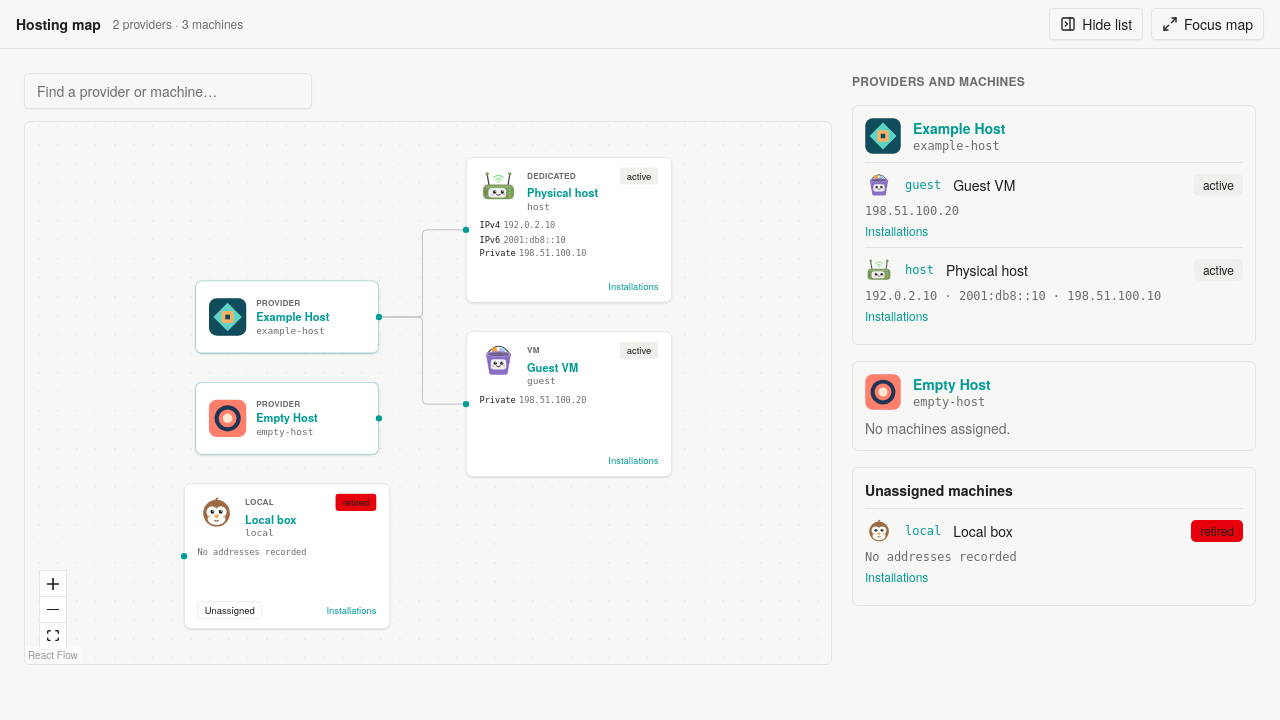
Test: hides the grouped list on request and gives the diagram the whole width
The image size is (1280, 720).
Expected: the element named "Provider to machine diagram" is shown, top-left (24, 121), bottom-right (832, 665)
Click the button "Hide list".
click(1096, 24)  # box top-left (1049, 8), bottom-right (1143, 40)
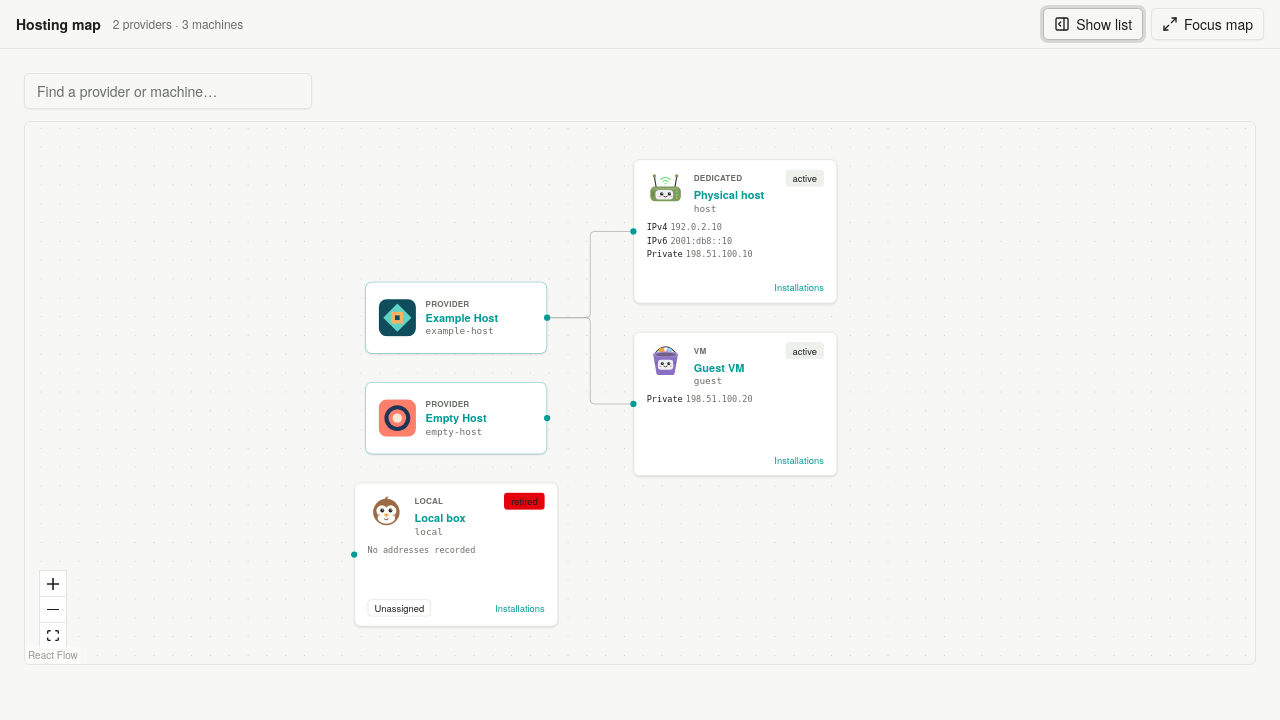
Now the heading "Providers and machines" is gone
Now the button "Show list" is collapsed, box top-left (1043, 8), bottom-right (1143, 40)
Press Enter
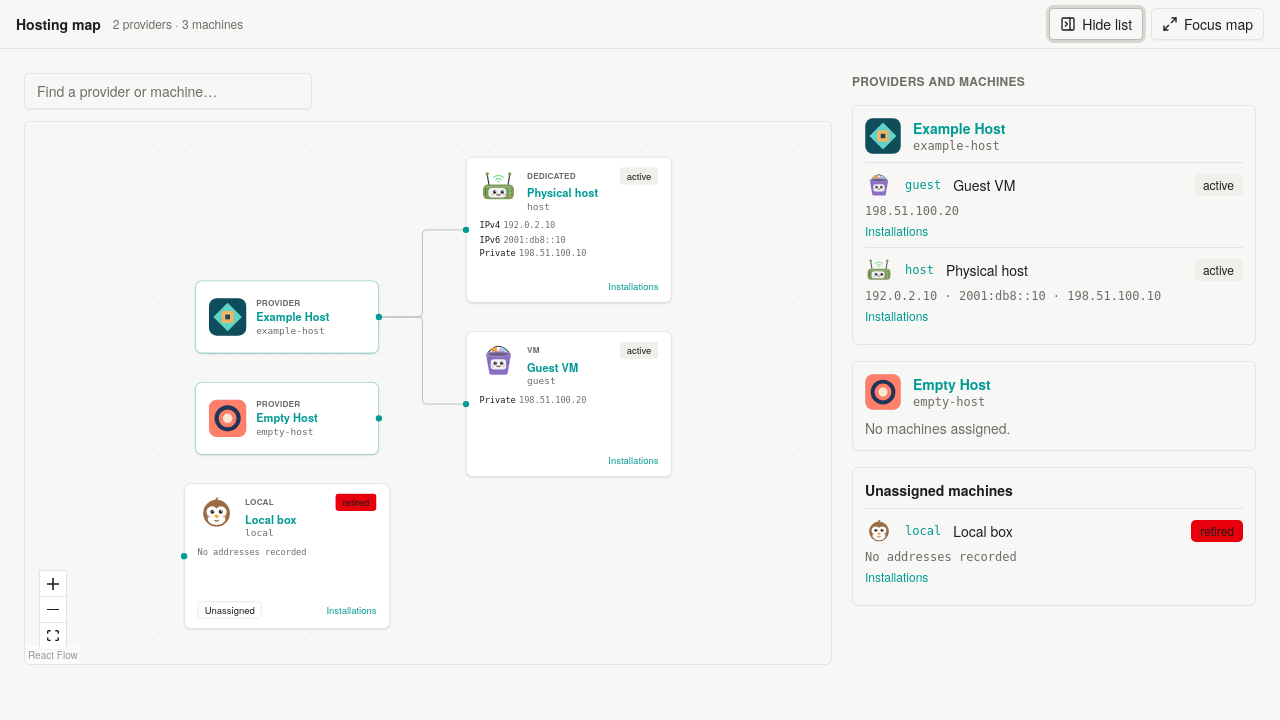
Now the element "Providers and machines" is shown, box top-left (852, 73), bottom-right (1256, 665)
